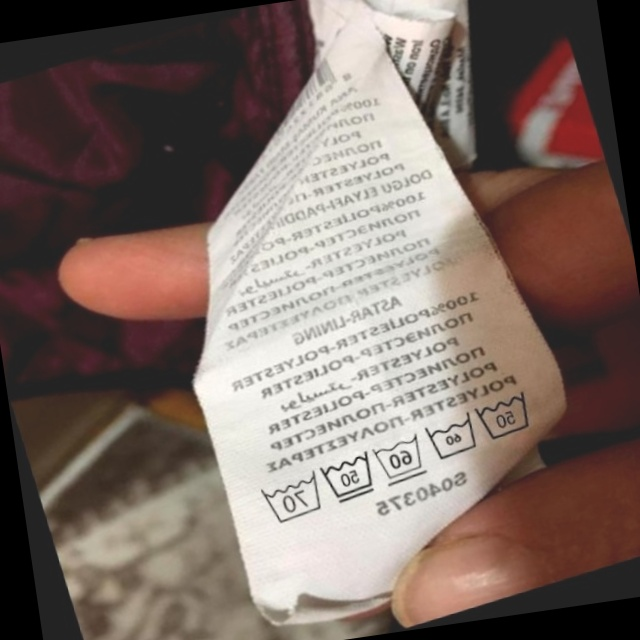50C: (466, 381, 544, 449), (313, 445, 384, 511)
60C: (365, 427, 433, 491), (417, 407, 485, 469)
70C: (251, 467, 329, 531)
